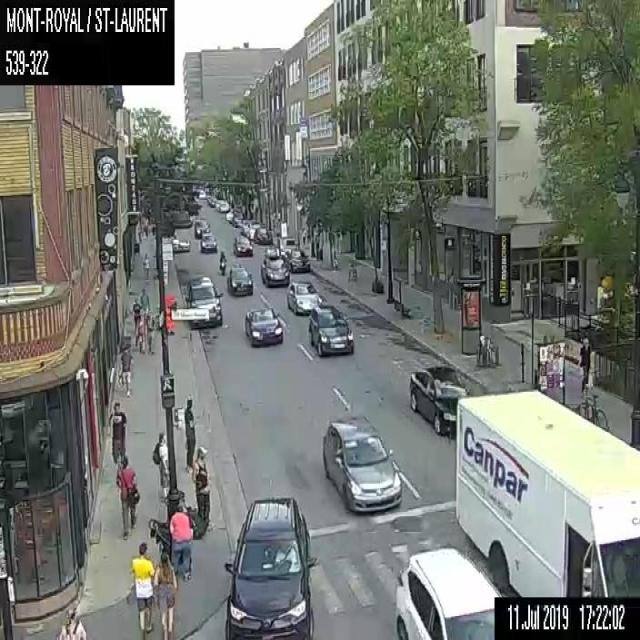pedestrian: (148, 501, 192, 582), (130, 541, 154, 639), (152, 550, 176, 638), (115, 456, 139, 540), (191, 445, 210, 524), (151, 432, 169, 502), (108, 400, 127, 464), (182, 398, 195, 472), (58, 608, 86, 639), (117, 343, 133, 396), (579, 334, 590, 394), (135, 306, 145, 353), (146, 307, 155, 353), (132, 298, 140, 330), (139, 287, 149, 310), (143, 251, 149, 277), (301, 227, 306, 244)
vehicle: (455, 387, 639, 596), (224, 494, 318, 638), (396, 545, 506, 639), (321, 418, 400, 511), (410, 365, 470, 438), (309, 304, 353, 354), (184, 276, 222, 328), (244, 306, 282, 346), (286, 280, 321, 314), (260, 246, 289, 286), (227, 264, 252, 296), (282, 247, 309, 272), (233, 234, 252, 256), (172, 231, 190, 252), (200, 231, 217, 252), (194, 217, 210, 237), (253, 226, 272, 242), (246, 223, 260, 239), (218, 251, 227, 273), (232, 212, 244, 226), (225, 208, 238, 220), (242, 219, 252, 233), (217, 201, 228, 210), (207, 195, 216, 205), (197, 189, 206, 199), (215, 198, 223, 206)
